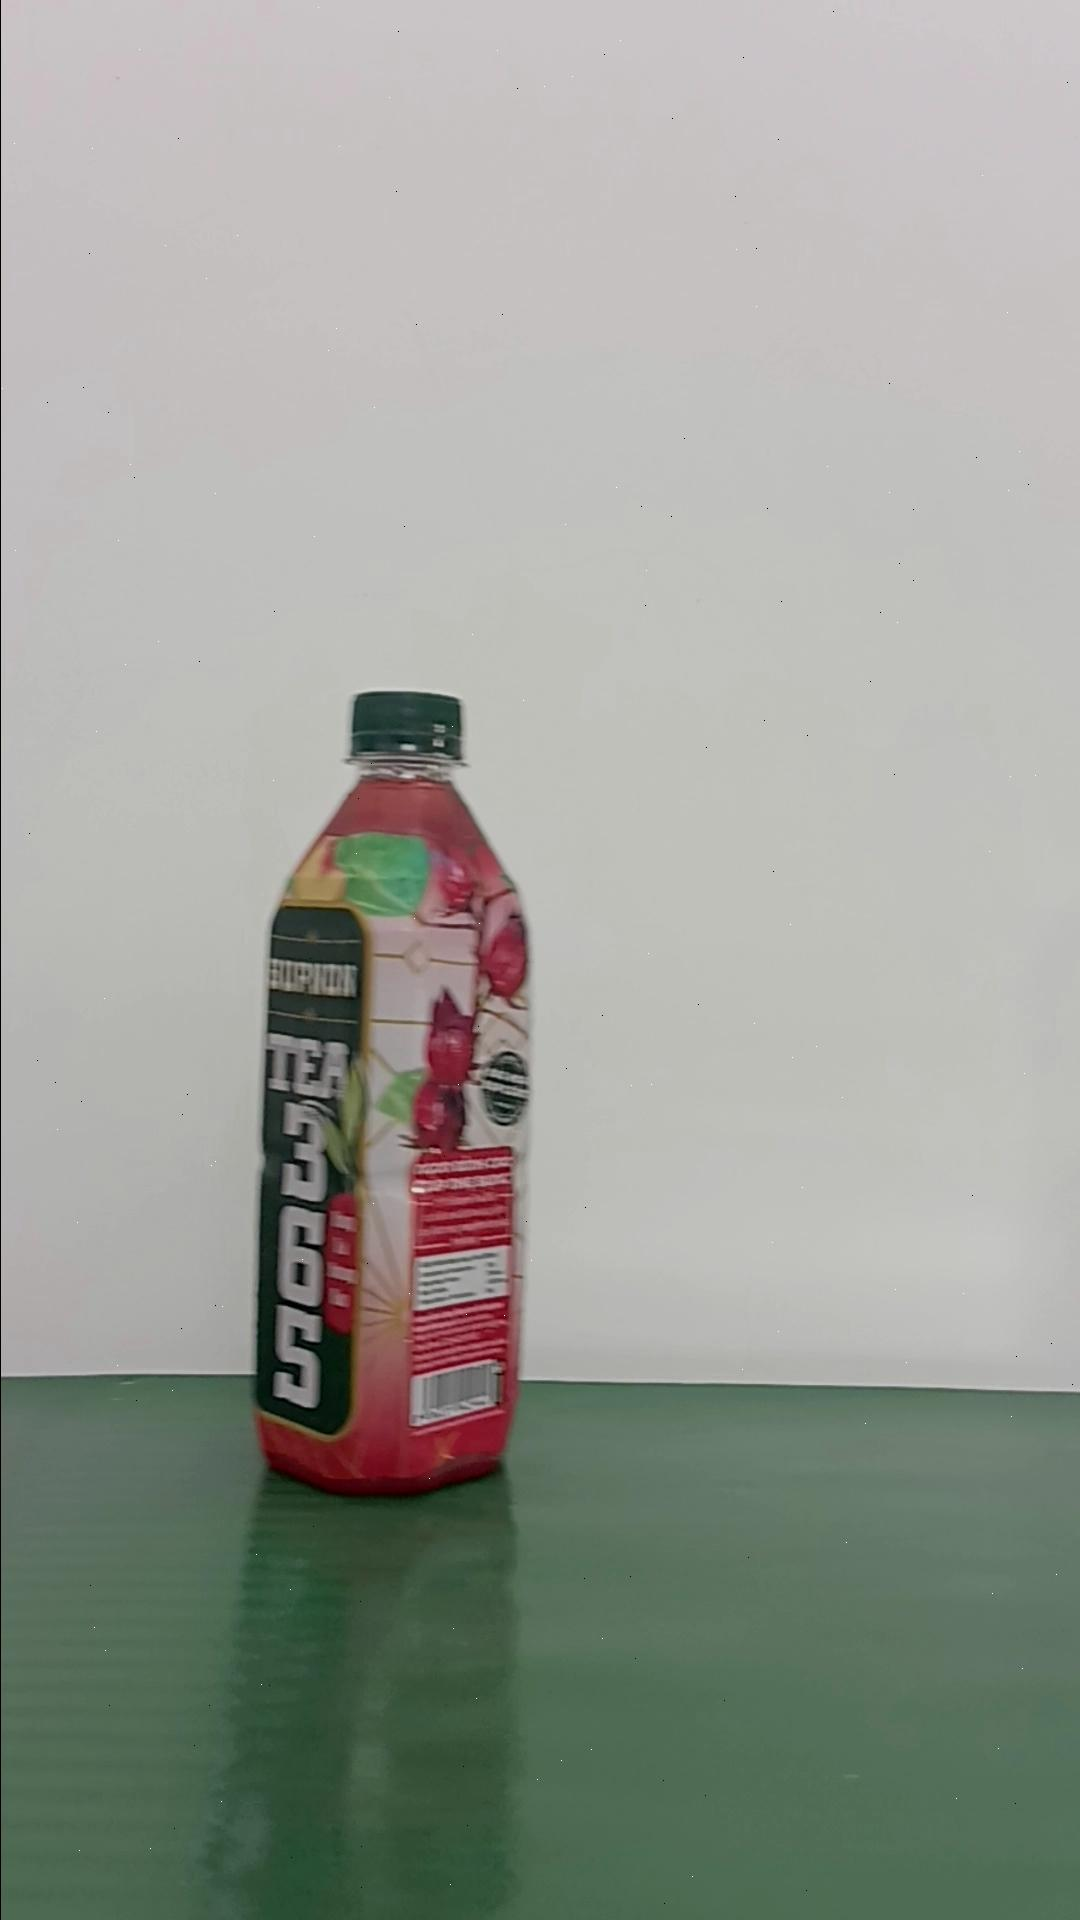khong loi: (251, 687, 533, 1495)
